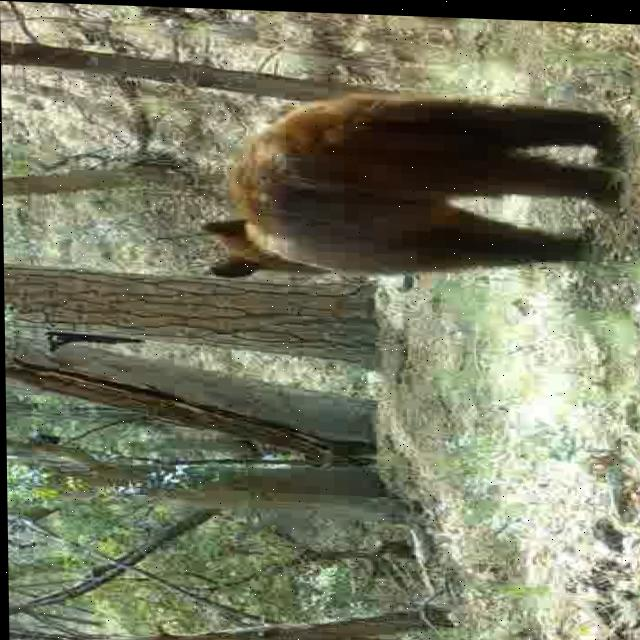bear face: (197, 90, 607, 286), (42, 330, 126, 351)
